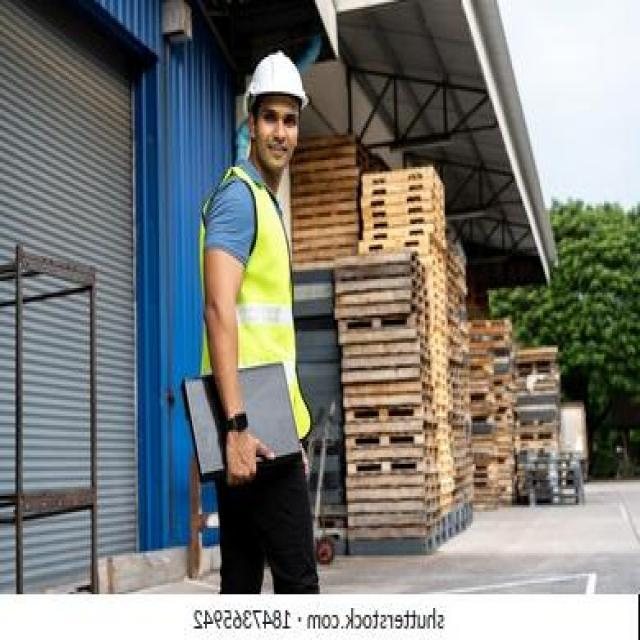Reflective-Jacket: (189, 162, 320, 460)
Safety-Helmet: (241, 46, 312, 112)
